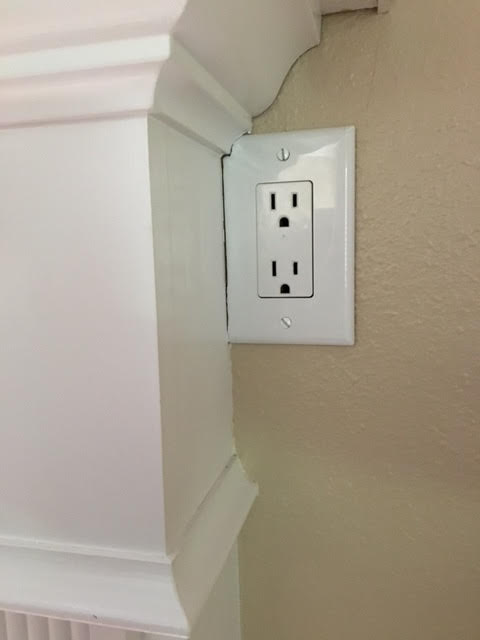outlet: (259, 186, 310, 232), (264, 256, 306, 298)
